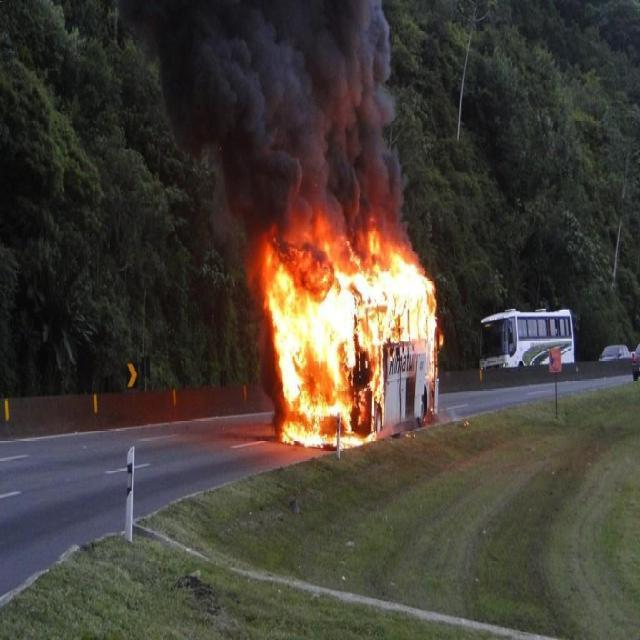Fire: (255, 219, 448, 458)
Smoke: (171, 5, 405, 234)
